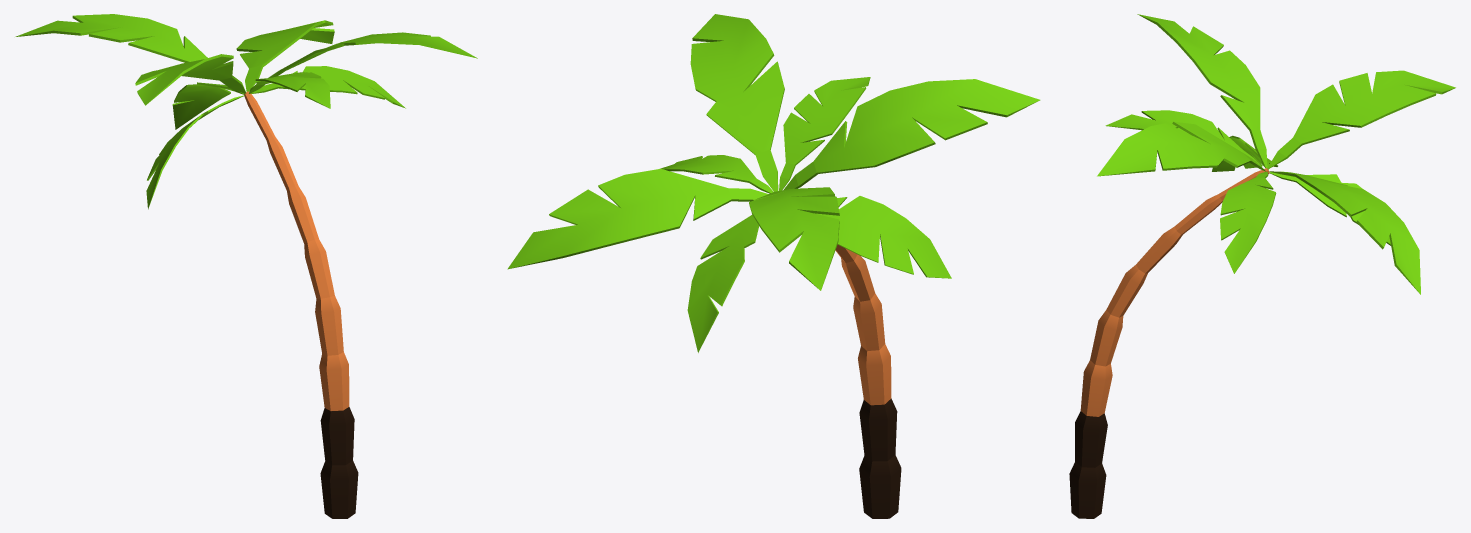
The model's file is Single_palm.fbx.
3 renders of one model, left to right at view 1: azimuth 30°, elevation 25°; view 2: azimuth 150°, elevation 25°; view 3: azimuth 270°, elevation 25°, orthographic. The views are drawn at different scales.
Visible parts, largest first — view 1: pCylinder9, pPlane8, pPlane7, pPlane5, pPlane2, pPlane6, pPlane1, pPlane3, pPlane4; view 2: pPlane5, pPlane7, pPlane6, pCylinder9, pPlane8, pPlane4, pPlane1, pPlane3, pPlane2; view 3: pCylinder9, pPlane8, pPlane6, pPlane5, pPlane7, pPlane2, pPlane3, pPlane1, pPlane4.
Boxes of the visible parts, bbox=[...] form: pCylinder9: bbox=[244, 91, 358, 518]; pPlane8: bbox=[15, 14, 207, 62]; pPlane7: bbox=[236, 20, 334, 91]; pPlane5: bbox=[135, 54, 246, 105]; pPlane2: bbox=[251, 66, 405, 108]; pPlane6: bbox=[268, 32, 477, 78]; pPlane1: bbox=[172, 82, 244, 129]; pPlane3: bbox=[249, 72, 330, 108]; pPlane4: bbox=[146, 95, 244, 209]; pPlane5: bbox=[784, 79, 1040, 189]; pPlane7: bbox=[507, 168, 768, 269]; pPlane6: bbox=[690, 14, 784, 191]; pCylinder9: bbox=[835, 244, 901, 518]; pPlane8: bbox=[749, 187, 839, 290]; pPlane4: bbox=[814, 196, 951, 278]; pPlane1: bbox=[687, 215, 759, 352]; pPlane3: bbox=[779, 77, 870, 190]; pPlane2: bbox=[660, 155, 773, 193]; pCylinder9: bbox=[1069, 168, 1269, 518]; pPlane8: bbox=[1267, 70, 1455, 169]; pPlane6: bbox=[1097, 121, 1265, 176]; pPlane5: bbox=[1137, 14, 1267, 167]; pPlane7: bbox=[1268, 171, 1420, 294]; pPlane2: bbox=[1220, 171, 1276, 273]; pPlane3: bbox=[1105, 110, 1263, 168]; pPlane1: bbox=[1269, 171, 1390, 245]; pPlane4: bbox=[1212, 135, 1277, 171].
Size of the model in its own units: 8.77 by 11.21 by 9.07.
